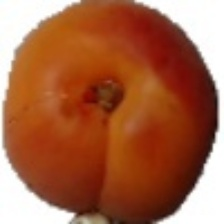apricot: (5, 41, 201, 214)
